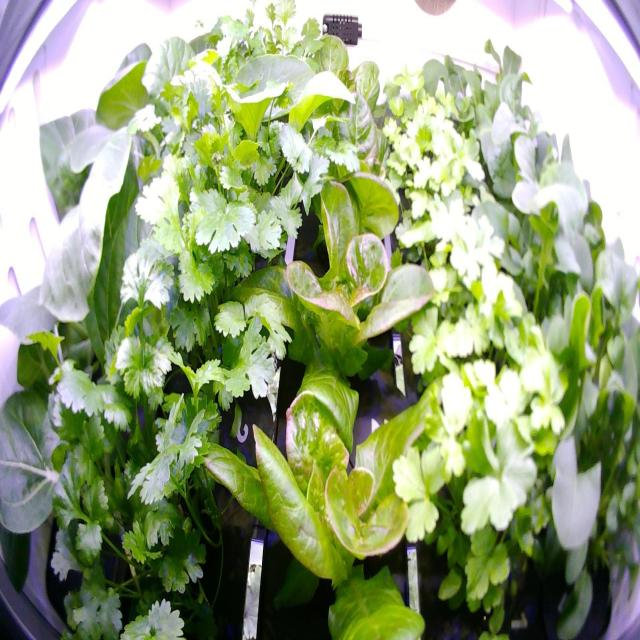young: (186, 369, 458, 638), (220, 166, 442, 437), (270, 78, 418, 262), (260, 18, 406, 163)
